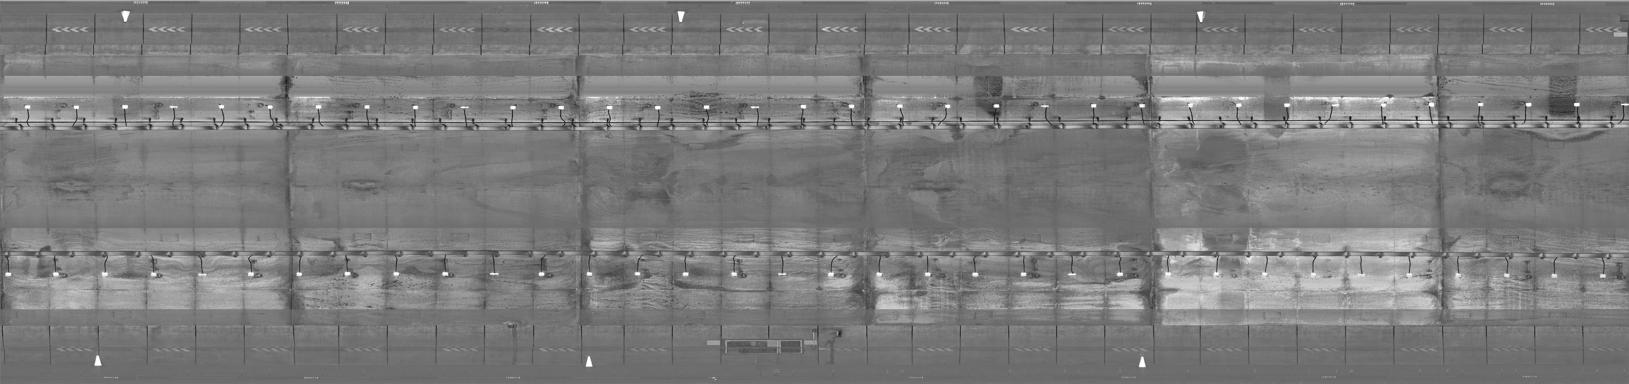light: (1594, 267, 1613, 283), (94, 266, 114, 281), (291, 267, 312, 282), (677, 266, 696, 282), (47, 267, 66, 282), (337, 267, 357, 281), (243, 267, 262, 282), (648, 99, 667, 114), (194, 268, 214, 282), (1325, 98, 1344, 112), (744, 99, 765, 112), (262, 100, 279, 115), (358, 99, 376, 114), (388, 267, 406, 281), (404, 100, 423, 114), (1228, 99, 1247, 113), (1546, 268, 1565, 282), (1352, 269, 1371, 282), (1518, 99, 1538, 112), (437, 267, 454, 282), (967, 267, 984, 282), (1305, 267, 1321, 282), (1403, 267, 1419, 282), (146, 269, 164, 283), (1085, 98, 1102, 112), (1111, 267, 1128, 281), (162, 101, 181, 114), (826, 267, 842, 282), (1449, 267, 1466, 281), (1498, 267, 1515, 281), (456, 101, 474, 114), (552, 101, 569, 114), (773, 267, 792, 279), (1, 267, 17, 281), (843, 99, 858, 113), (1279, 99, 1294, 113), (1207, 267, 1227, 278), (117, 102, 134, 115), (311, 101, 327, 114), (795, 99, 811, 112), (697, 102, 715, 114), (869, 269, 887, 280), (214, 100, 229, 114), (488, 267, 503, 281), (991, 99, 1006, 113), (920, 267, 936, 280), (1161, 268, 1178, 280), (1422, 98, 1439, 110), (1568, 98, 1584, 110), (582, 268, 599, 279), (1018, 268, 1033, 281), (19, 101, 34, 113), (632, 269, 647, 281), (1182, 100, 1198, 112), (1376, 100, 1393, 110), (1134, 99, 1150, 110), (1064, 267, 1079, 278), (1472, 99, 1488, 110), (1036, 103, 1054, 112), (70, 103, 86, 113), (938, 102, 955, 112), (1617, 99, 1629, 112), (506, 103, 520, 114), (727, 269, 742, 280), (600, 102, 616, 112), (534, 270, 551, 279), (894, 101, 908, 112), (1259, 267, 1274, 277)
